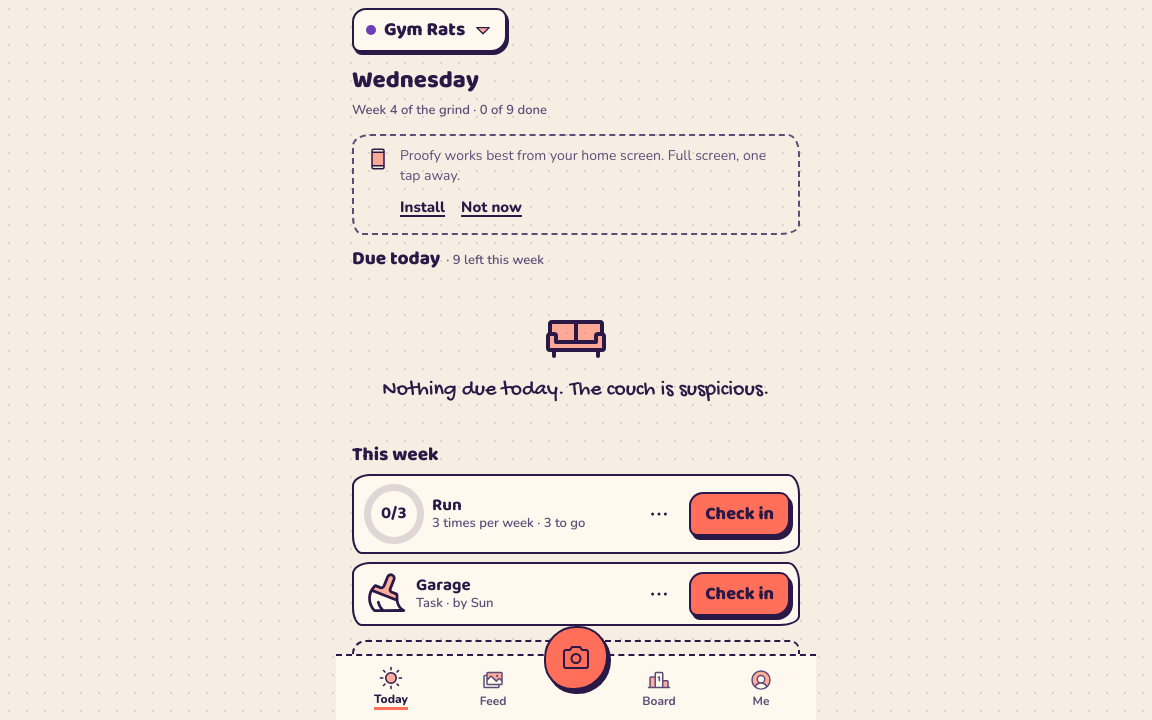
it: Today with a plan › deleting a task from its row: the row goes and "+ Add" gets focus
Click the button named "More actions for Garage".
click(659, 594)  # box [637,572,681,616]
(page scrolled)
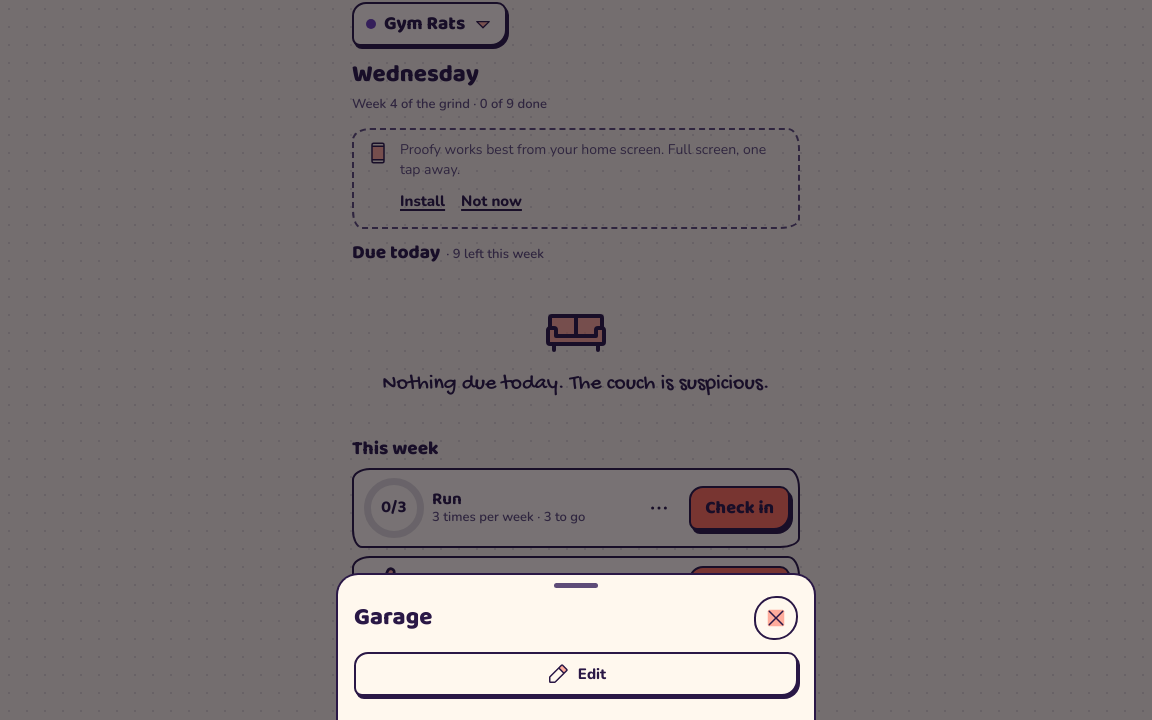
Click the button "Edit".
click(576, 674)  # box [354,652,798,696]
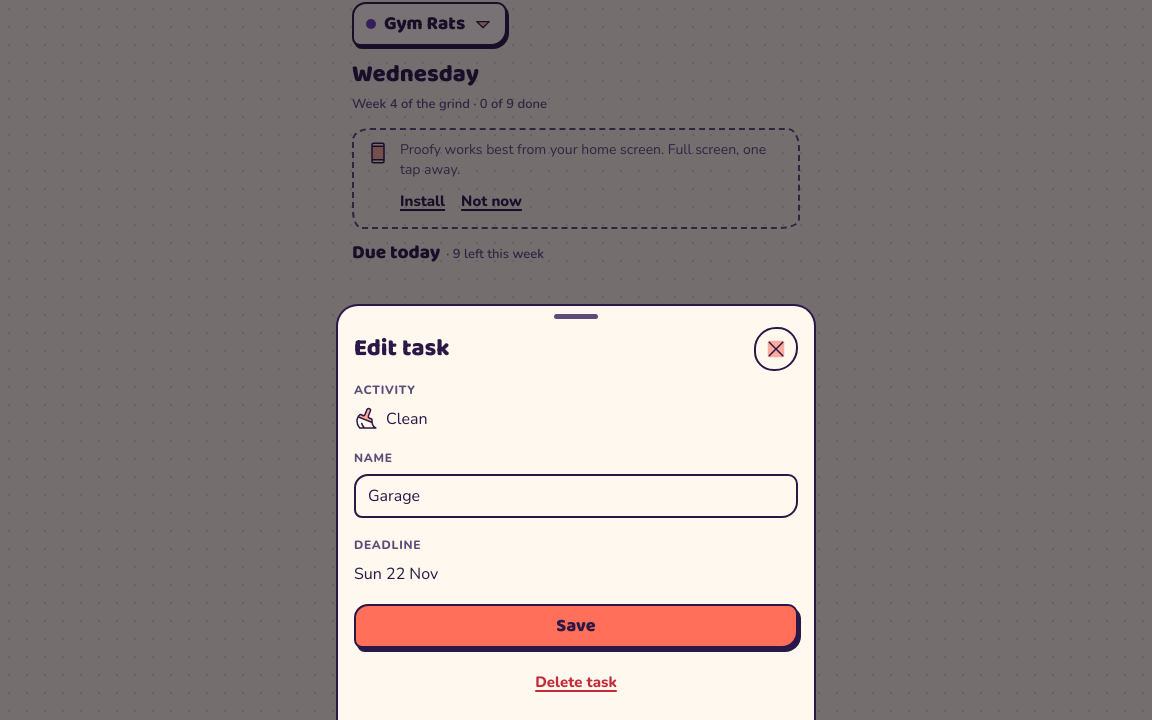
Click the button "Delete task".
click(576, 682)  # box [531,660,621,704]
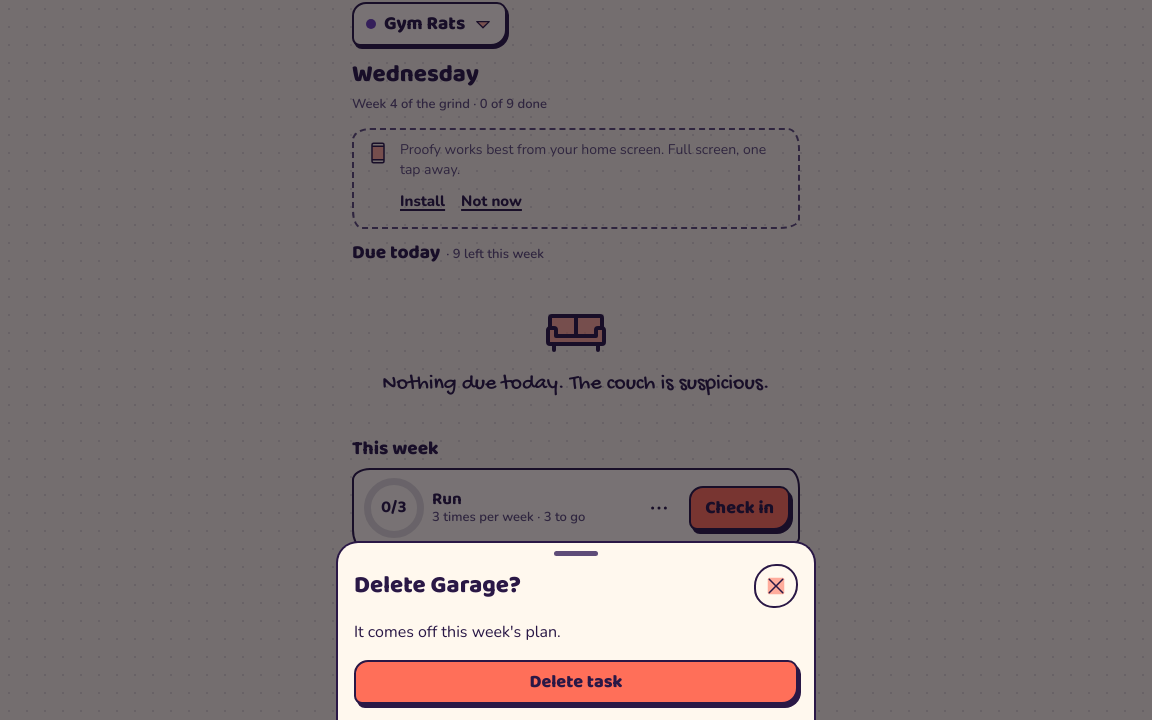
Click the button "Delete task".
click(576, 682)  # box [354,660,798,704]
(page scrolled)
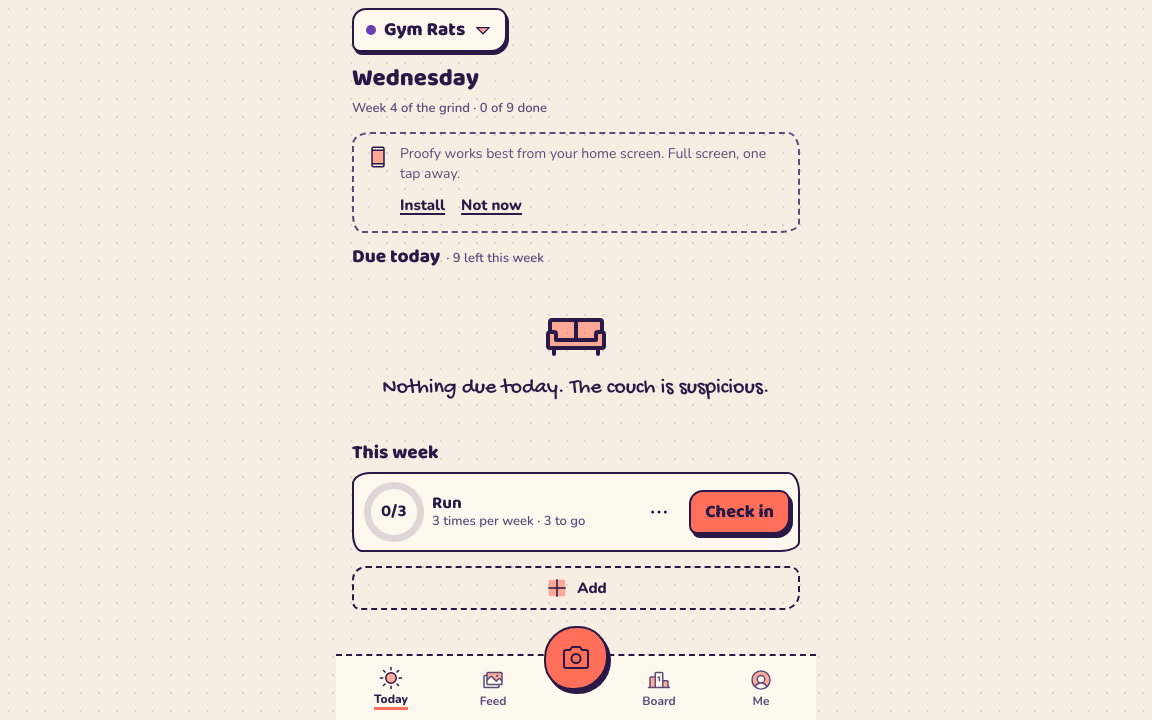
expect the heading "Garage" is gone: met
